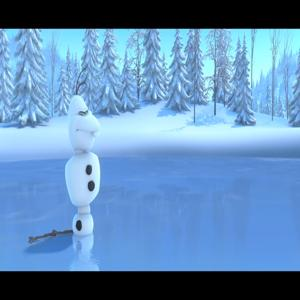olaf: (50, 86, 106, 246)
